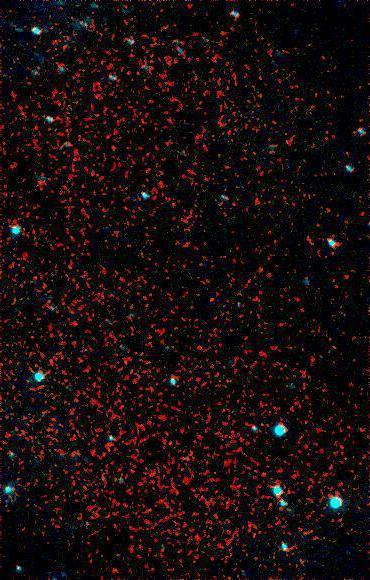star: (59, 307, 89, 337)
